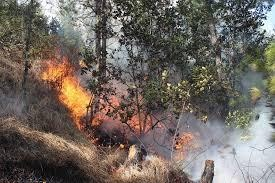fire: (30, 53, 112, 134)
